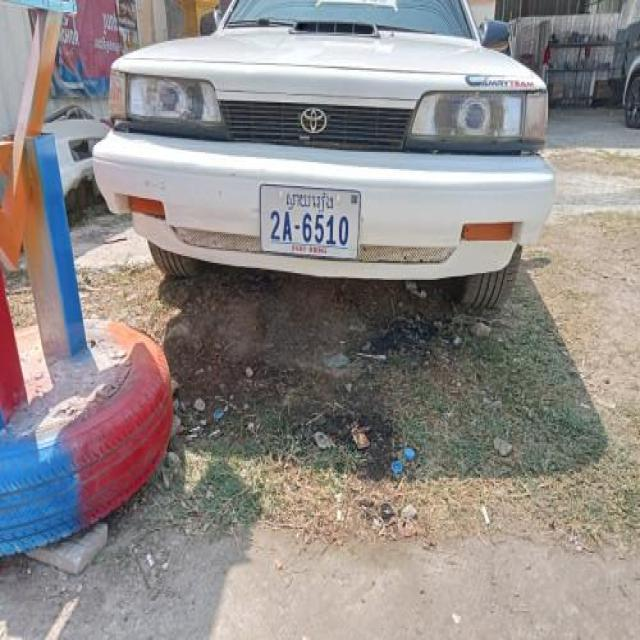Svay_Rieng: (287, 191, 334, 212)
